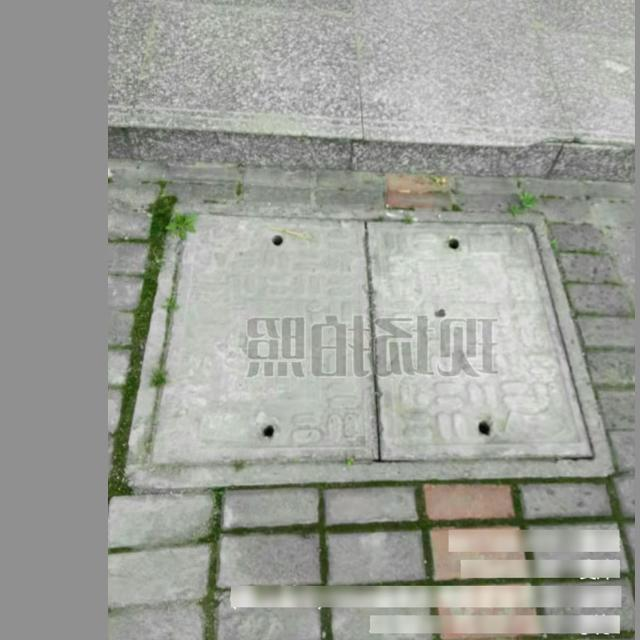good: (122, 201, 617, 486)
